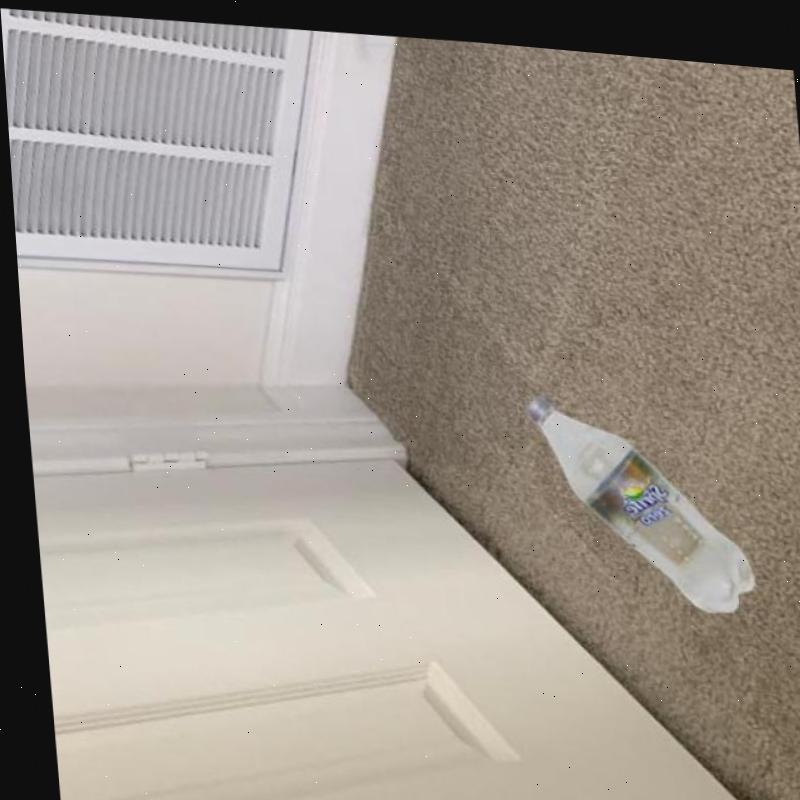botella: (517, 382, 751, 607)
